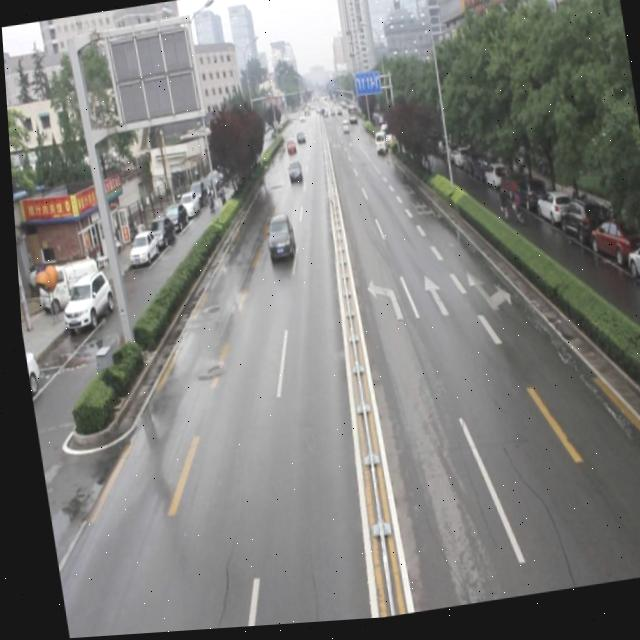car: (258, 217, 294, 268), (283, 163, 300, 188)
truck: (369, 133, 384, 159)
